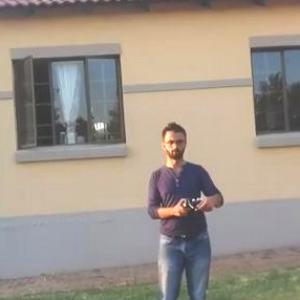follow: (142, 113, 234, 299)
